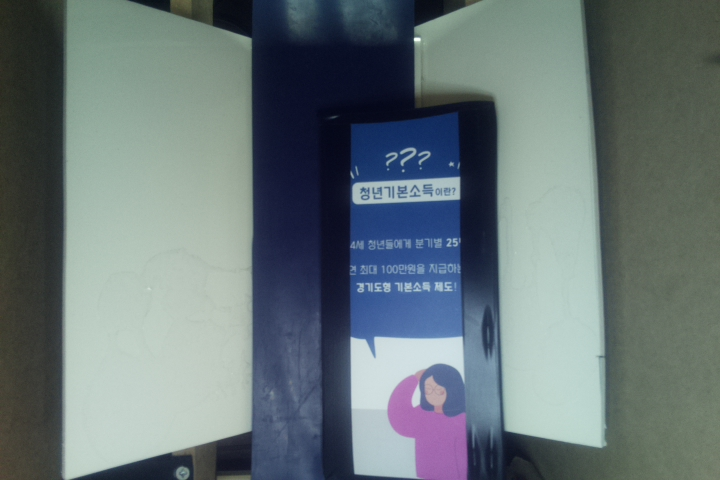book: (325, 101, 505, 480)
